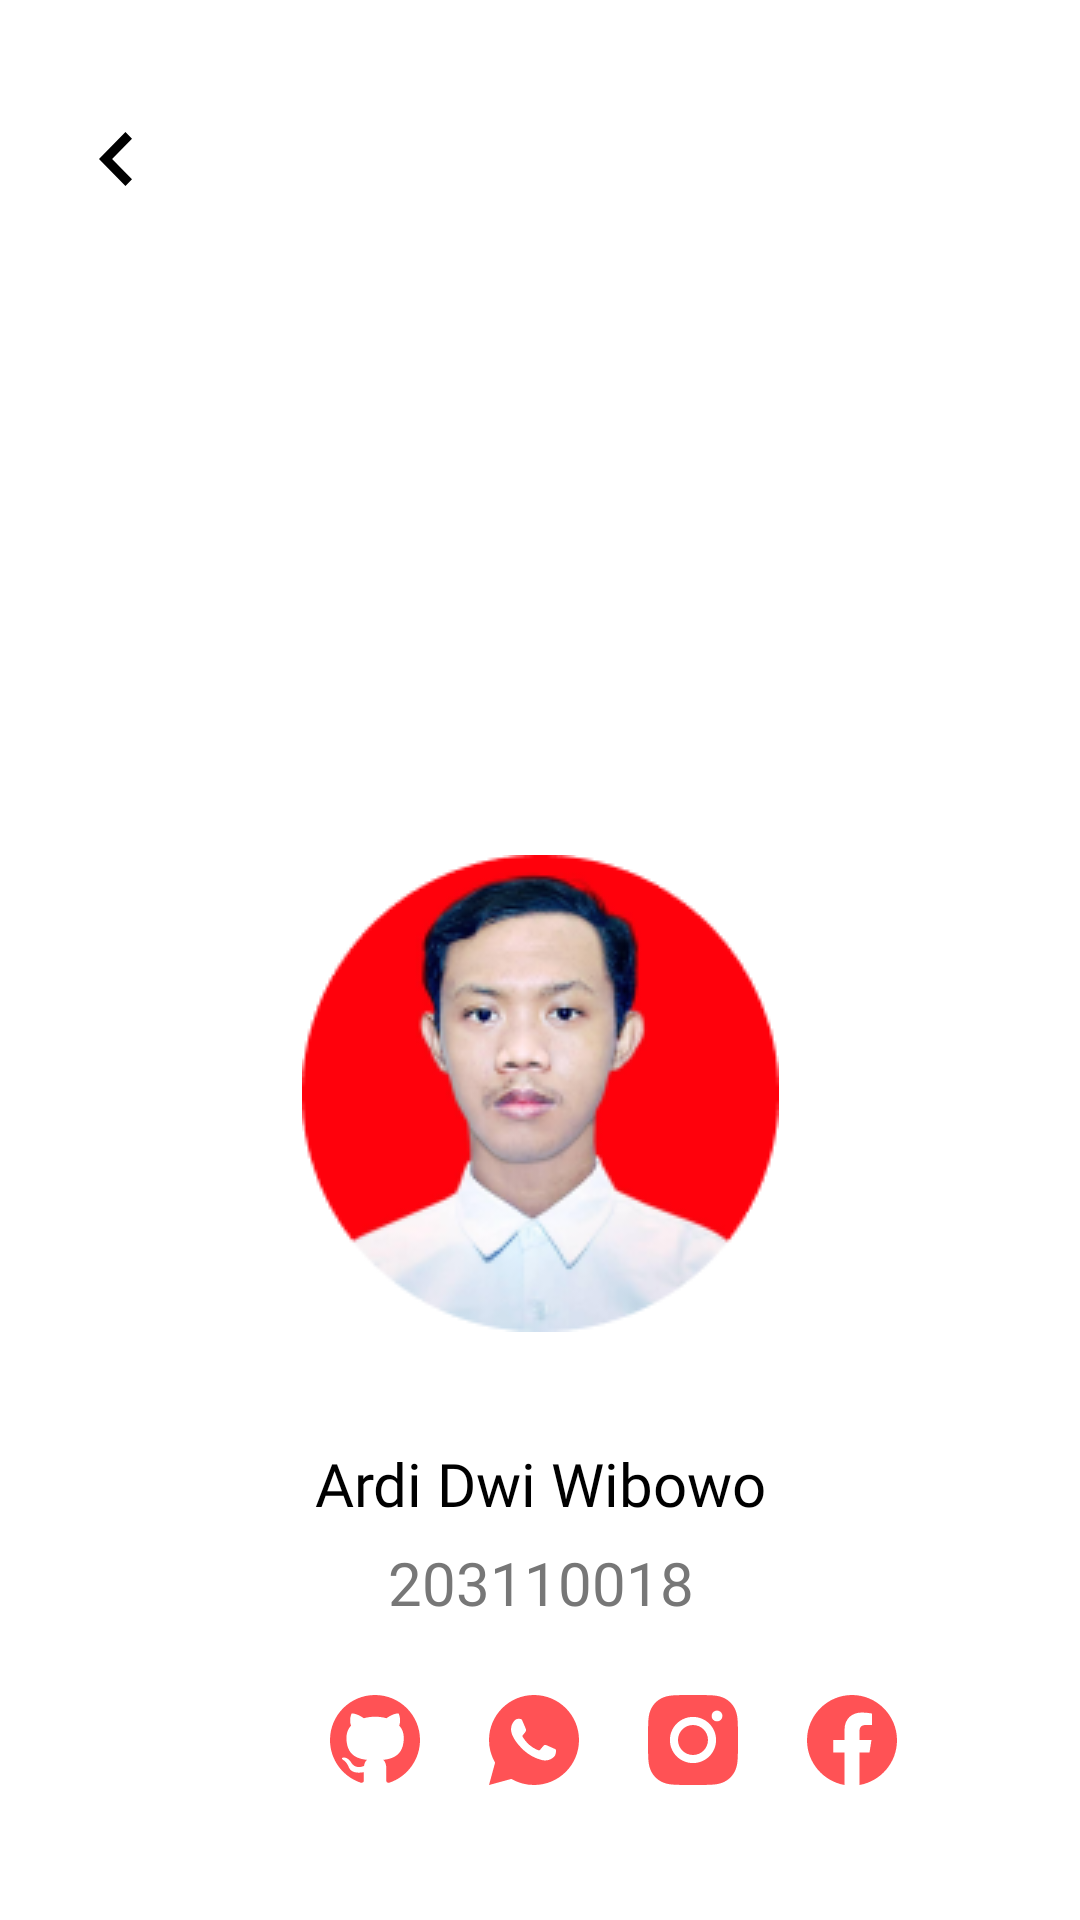

Screen size 1080*1920. Icon name, then its center in pixels as (x,y):
btnback: (115,159)
